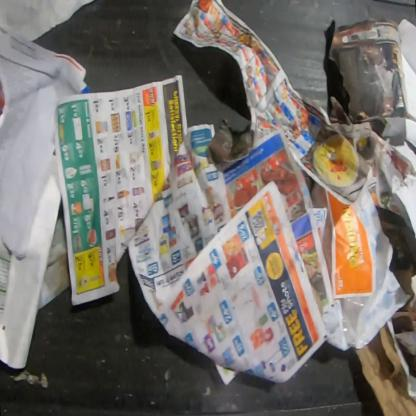cardboard: (357, 323, 415, 415)
soft_plastic: (340, 298, 370, 351), (378, 151, 406, 192)
